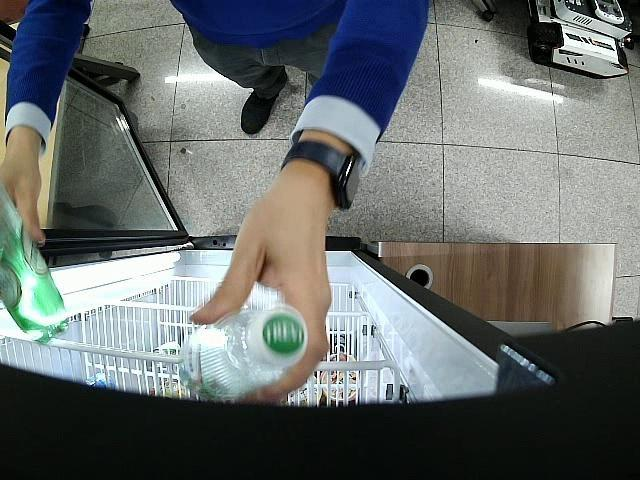18_trevi: (178, 307, 308, 403), (0, 182, 69, 341)
